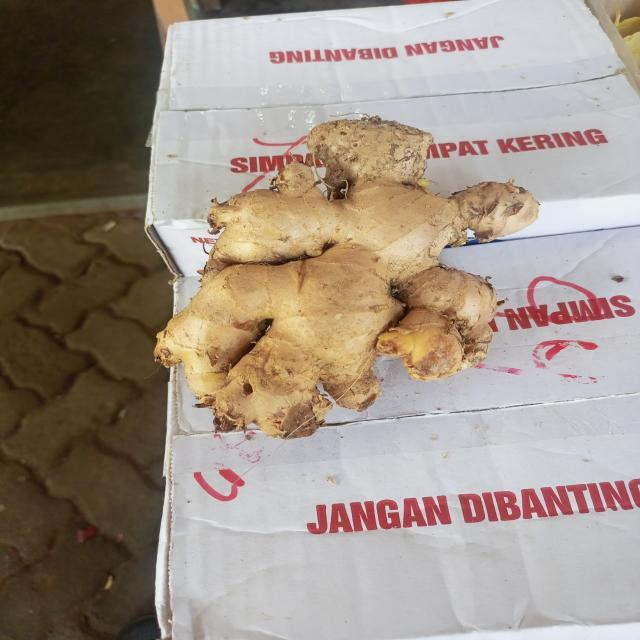ginger: (155, 118, 535, 433)
